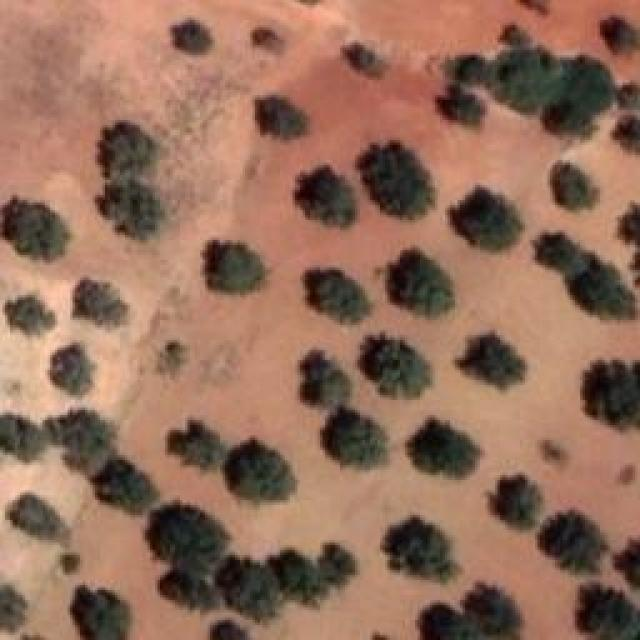Tree: (357, 143, 435, 220), (543, 55, 614, 136), (145, 505, 230, 568), (383, 515, 459, 581), (223, 437, 297, 502), (450, 187, 524, 252), (47, 410, 116, 478), (408, 417, 482, 477), (97, 118, 167, 180), (218, 555, 283, 621), (390, 250, 455, 316), (490, 43, 555, 109), (95, 175, 163, 238), (363, 338, 433, 398), (538, 512, 608, 572), (582, 360, 640, 430), (3, 198, 67, 261), (323, 408, 388, 470), (458, 333, 527, 391), (295, 166, 358, 226), (93, 458, 159, 514), (268, 550, 331, 606), (572, 263, 635, 319), (580, 582, 640, 640), (308, 270, 371, 323), (160, 565, 224, 617), (300, 350, 353, 410), (8, 492, 71, 542), (465, 582, 519, 640), (203, 243, 263, 295), (168, 420, 229, 471), (488, 475, 543, 530), (70, 587, 127, 640), (73, 280, 129, 327), (532, 228, 589, 271), (550, 163, 599, 211), (50, 343, 95, 395), (0, 415, 48, 463), (414, 597, 467, 640), (258, 98, 309, 139), (435, 85, 484, 127), (10, 295, 55, 335), (318, 542, 357, 587), (600, 15, 640, 54), (343, 42, 387, 77), (173, 20, 214, 55), (0, 583, 28, 631), (448, 58, 488, 85), (612, 115, 640, 153), (617, 204, 640, 249), (158, 343, 188, 376), (210, 620, 250, 640), (253, 30, 286, 53), (54, 550, 84, 574), (500, 25, 530, 48), (620, 88, 640, 113)
